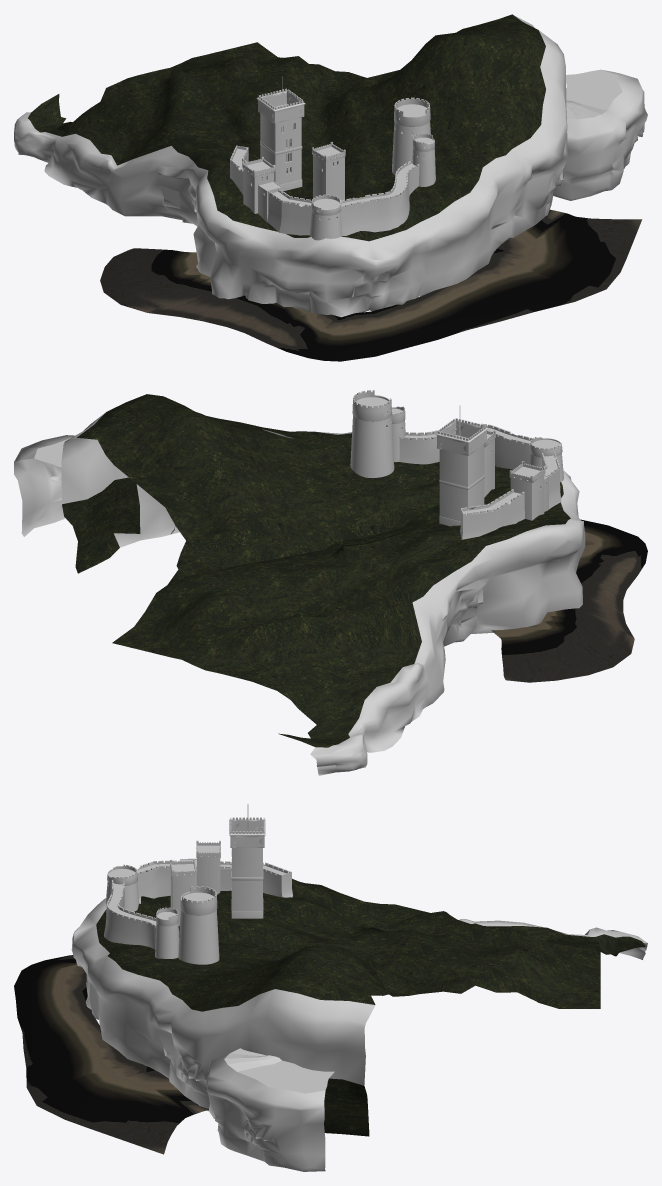
File: 山体右.FBX
3 views of the same model, one above another, from view 1: azimuth 30°, elevation 25°; view 2: azimuth 150°, elevation 25°; view 3: azimuth 270°, elevation 25° (orthographic). The views are drawn at different scales.
Parts seen in each view (by area): view 1: 组001, st002; view 2: 组001, st002; view 3: 组001, st002.
Boxes of the visible parts, left/top/right/bottom form: 组001: left=14, top=14, right=647, bottom=317; st002: left=100, top=209, right=642, bottom=361; 组001: left=14, top=390, right=585, bottom=775; st002: left=491, top=519, right=647, bottom=682; 组001: left=71, top=804, right=647, bottom=1171; st002: left=14, top=955, right=208, bottom=1154.
Bounding box in the file's own units: 78609 × 26403 × 78616.
